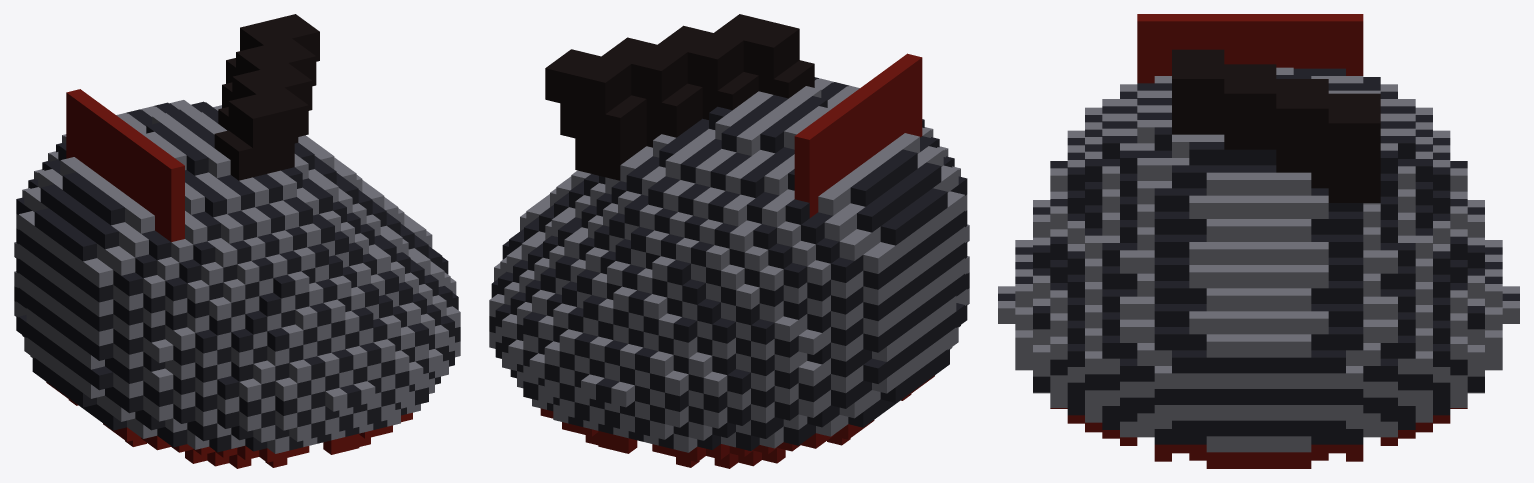
Rendered from chain_masterwork_shoulder_L.glb.
The picture shows the model from 3 angles, left to right: view 1: azimuth 30°, elevation 25°; view 2: azimuth 150°, elevation 25°; view 3: azimuth 270°, elevation 25°; orthographic projection. The views are drawn at different scales.
Parts seen in each view (by area): view 1: chain_masterwork_shoulder_L; view 2: chain_masterwork_shoulder_L; view 3: chain_masterwork_shoulder_L.
Part boxes in pixels (x1=…): chain_masterwork_shoulder_L: x1=14, y1=14, x2=460, y2=468; chain_masterwork_shoulder_L: x1=489, y1=14, x2=969, y2=468; chain_masterwork_shoulder_L: x1=998, y1=14, x2=1519, y2=468.
Size of the model in its own units: 0.3 by 0.252 by 0.36.
